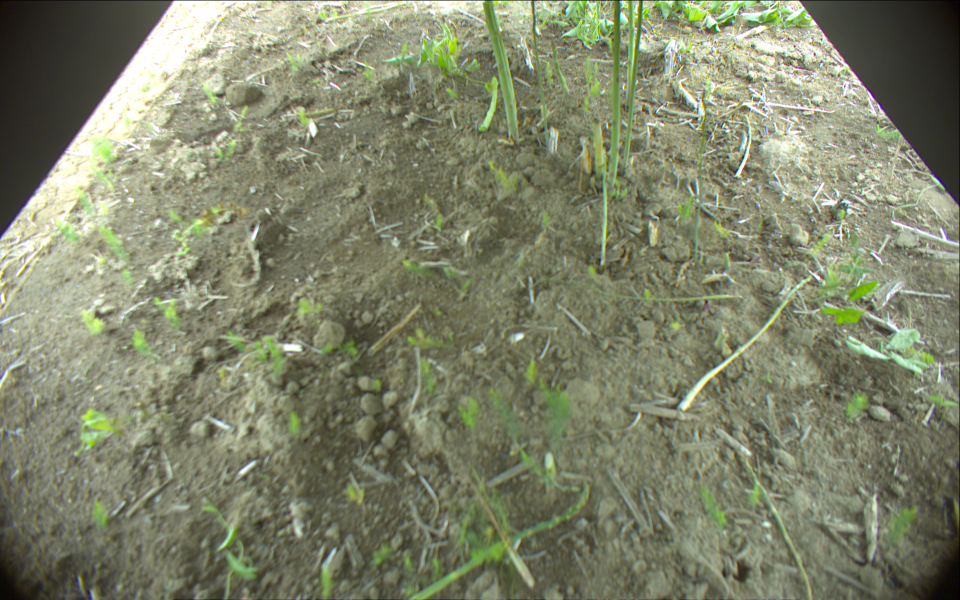aspa: (680, 266, 820, 417), (409, 483, 589, 600), (736, 454, 814, 600), (522, 276, 742, 303), (482, 1, 521, 143), (621, 1, 645, 174), (528, 1, 550, 146), (608, 1, 624, 189), (326, 1, 408, 22), (600, 146, 611, 269), (550, 39, 571, 94), (479, 75, 499, 132), (591, 111, 607, 179), (735, 114, 752, 178), (625, 1, 635, 109)
